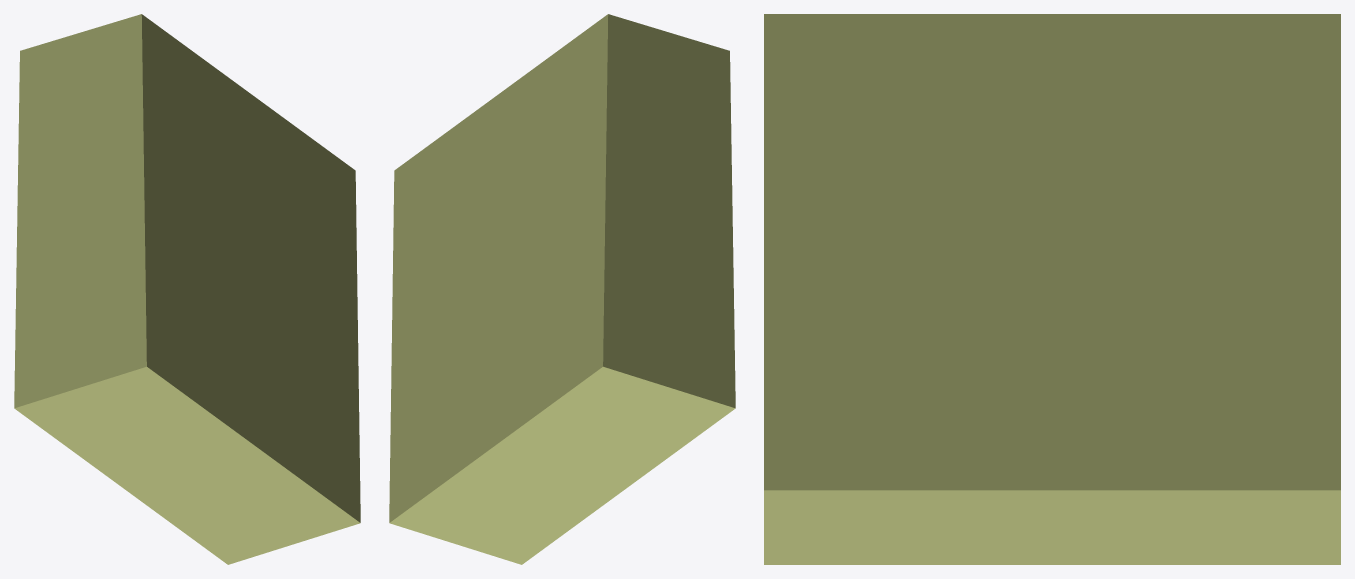
The picture shows the model from 3 angles, left to right: view 1: azimuth 30°, elevation 25°; view 2: azimuth 150°, elevation 25°; view 3: azimuth 270°, elevation 25°; orthographic projection. The views are drawn at different scales.
Visible parts, largest first — view 1: 0_2_0_1_1_2_2_3_2_2; view 2: 0_2_0_1_1_2_2_3_2_2; view 3: 0_2_0_1_1_2_2_3_2_2.
Part boxes in pixels (x1,y1,x2,y2): 0_2_0_1_1_2_2_3_2_2: [14, 14, 360, 564]; 0_2_0_1_1_2_2_3_2_2: [389, 14, 735, 564]; 0_2_0_1_1_2_2_3_2_2: [764, 14, 1340, 564].
Bounding box in the file's own units: 3.22 × 8.43 × 9.
